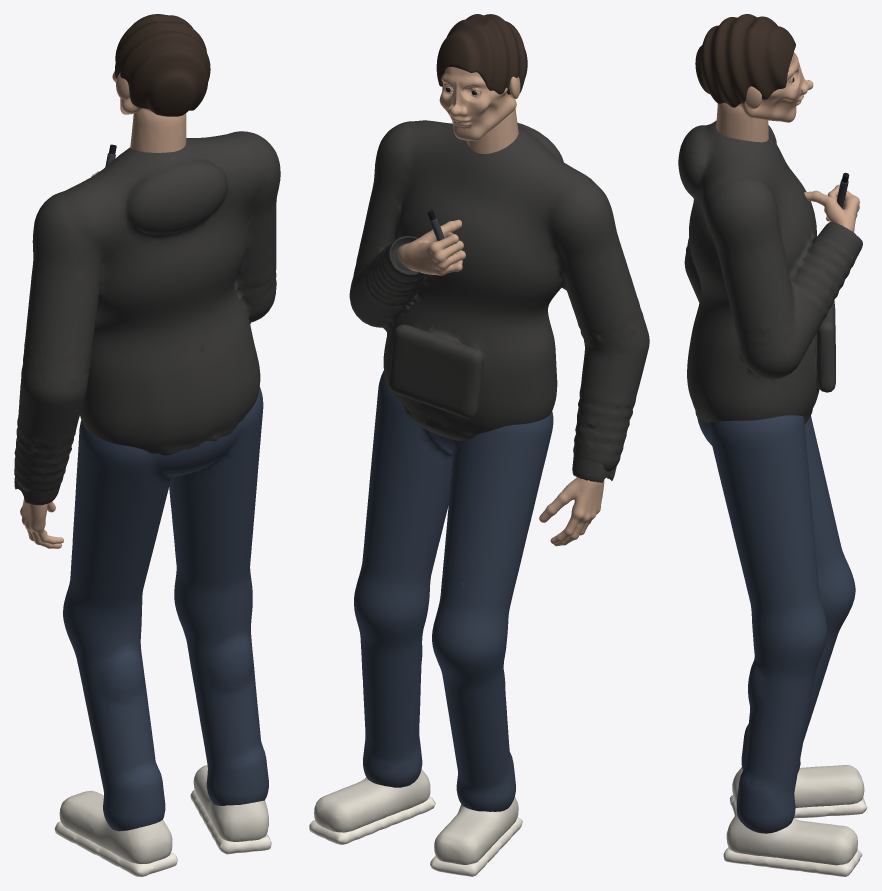
The model's file is vape_door.glb.
3 renders of one model, left to right at view 1: azimuth 30°, elevation 25°; view 2: azimuth 150°, elevation 25°; view 3: azimuth 270°, elevation 25°, orthographic. The views are drawn at different scales.
Parts seen in each view (by area): view 1: vape_door_body, vape_door_head, vape_door_hands; view 2: vape_door_body, vape_door_head, vape_door_hands; view 3: vape_door_body, vape_door_head, vape_door_hands.
Boxes of the visible parts, <box> form: vape_door_body: <box>14,109,280,876</box>; vape_door_head: <box>112,14,210,116</box>; vape_door_hands: <box>14,171,99,548</box>; vape_door_body: <box>309,109,649,876</box>; vape_door_head: <box>436,14,527,140</box>; vape_door_hands: <box>381,219,616,546</box>; vape_door_body: <box>678,103,867,876</box>; vape_door_head: <box>695,14,813,122</box>; vape_door_hands: <box>804,184,862,268</box>.
Bounding box in the file's own units: 0.6181 × 1.76 × 0.3768.
